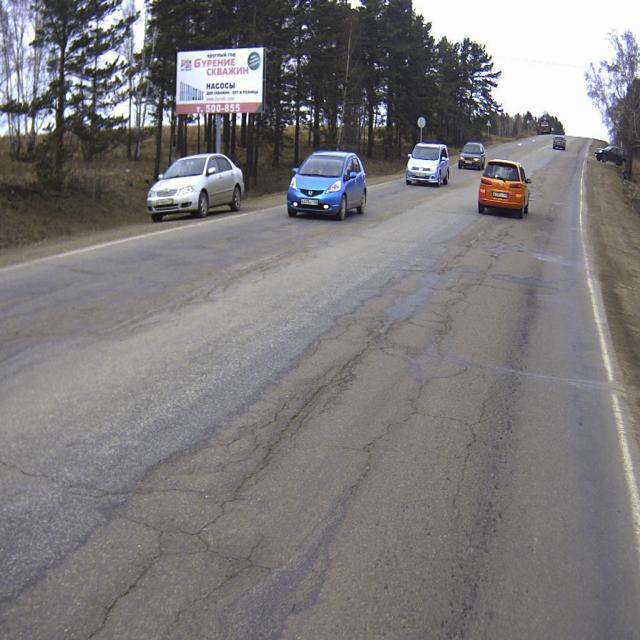road: (0, 134, 640, 639)
